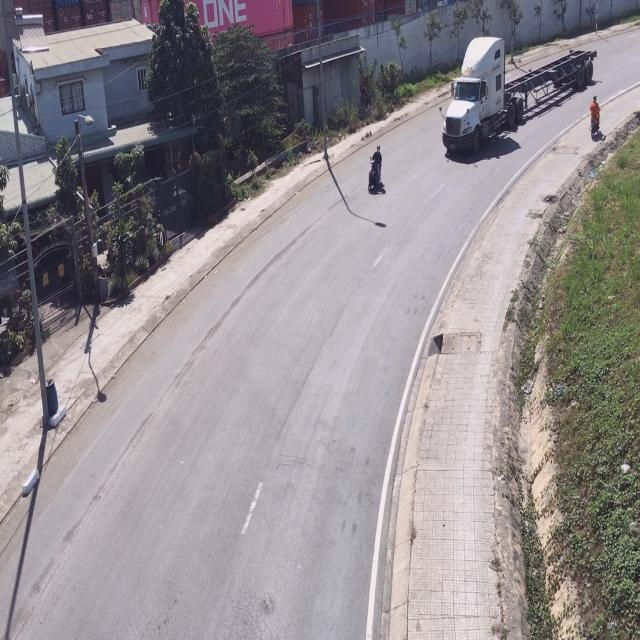motorbike: (367, 146, 386, 198), (589, 96, 603, 140)
truck: (438, 35, 597, 158)
